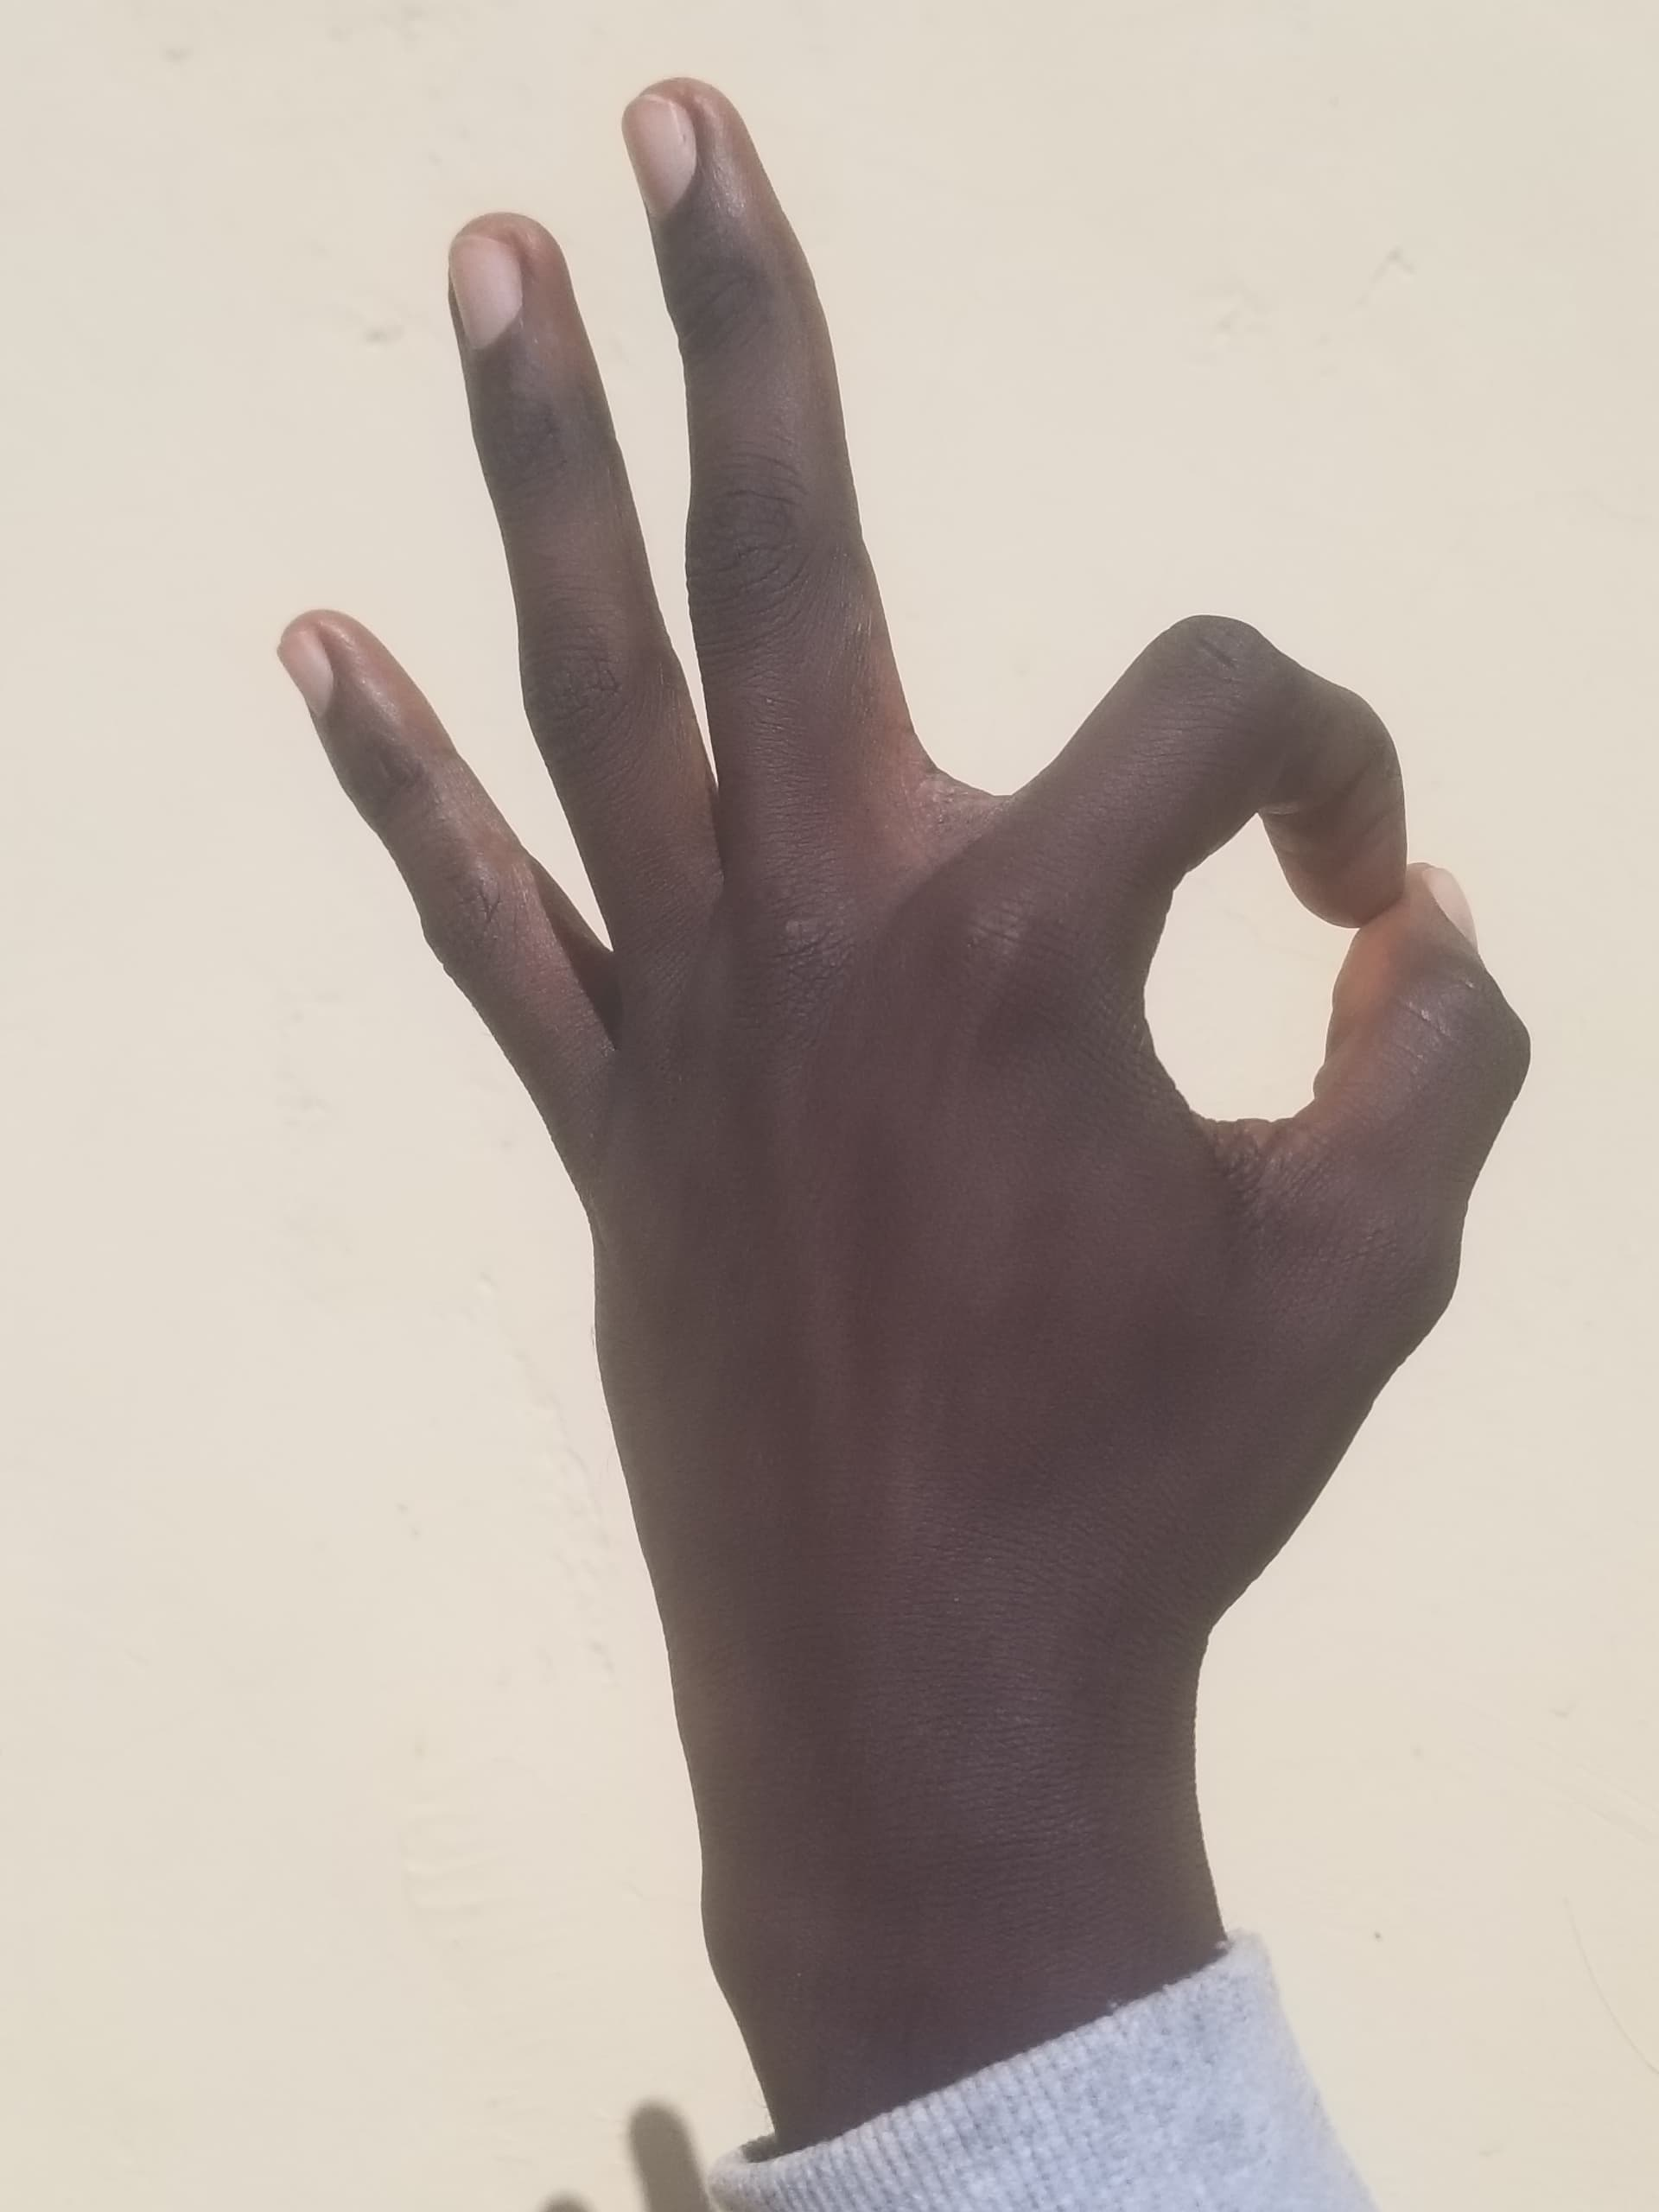okay: (162, 51, 1570, 1844)
